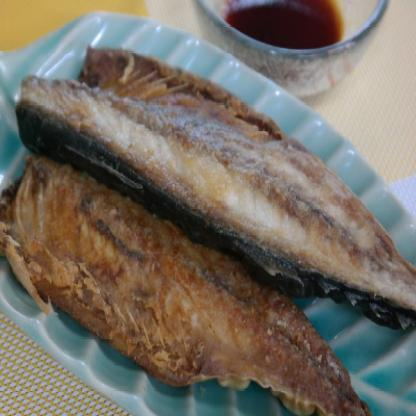Peixe: (0, 56, 416, 416)
